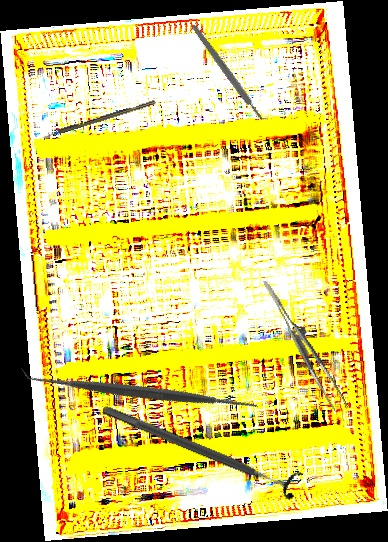Fixation Ring: (97, 394, 304, 502)
Hook Surgical: (40, 99, 157, 140)
Scalpel Handle: (190, 23, 265, 122)
Spatula Surgical: (20, 271, 264, 512)
Tissue Forceps: (263, 270, 348, 418)
